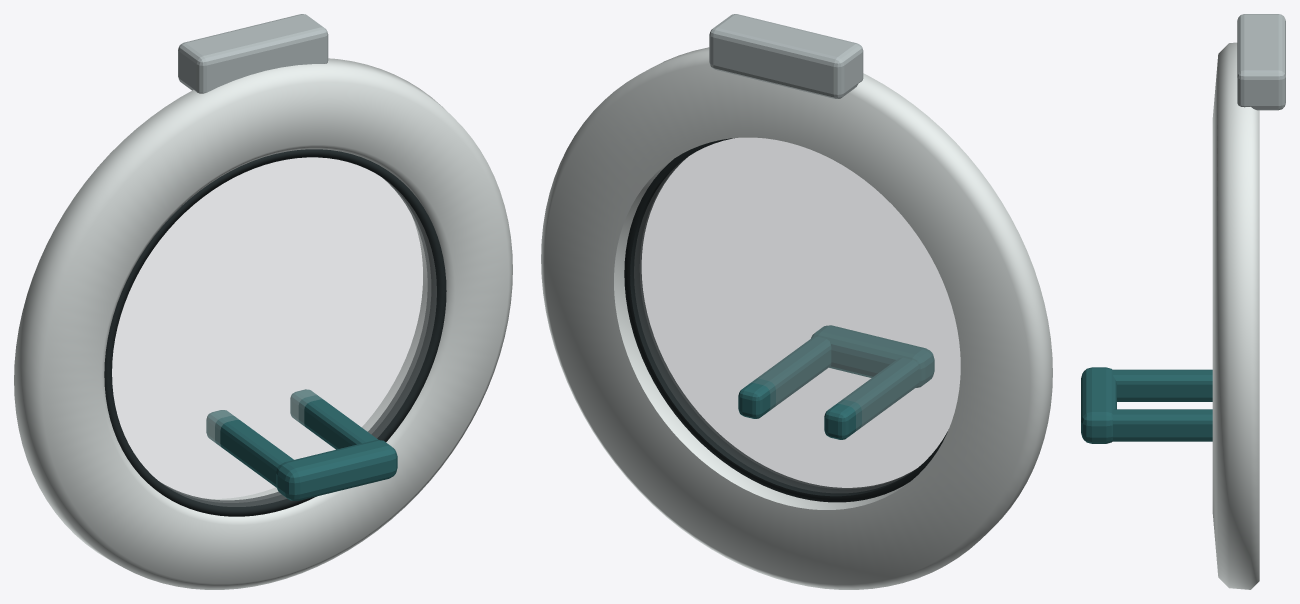
File: centrifuge_lid.glb
3 views of the same model, side by side, from view 1: azimuth 30°, elevation 25°; view 2: azimuth 150°, elevation 25°; view 3: azimuth 270°, elevation 25° (orthographic). The views are drawn at different scales.
Visible parts, largest first — view 1: Centrifuge lid enamel annulus, Centrifuge protective viewing window, Centrifuge viewing window gasket, Centrifuge lid hinge, Centrifuge lid grip, Centrifuge lid grip support.001, Centrifuge lid grip support; view 2: Centrifuge lid enamel annulus, Centrifuge protective viewing window, Centrifuge viewing window gasket, Centrifuge lid hinge, Centrifuge lid grip support.001, Centrifuge lid grip, Centrifuge lid grip support; view 3: Centrifuge lid enamel annulus, Centrifuge lid hinge, Centrifuge lid grip support, Centrifuge lid grip support.001, Centrifuge lid grip.
Boxes of the visible parts, <box> form: Centrifuge lid enamel annulus: <box>14,58,512,589</box>; Centrifuge protective viewing window: <box>112,157,436,506</box>; Centrifuge viewing window gasket: <box>104,149,446,516</box>; Centrifuge lid hinge: <box>178,14,328,93</box>; Centrifuge lid grip: <box>276,440,397,500</box>; Centrifuge lid grip support.001: <box>206,410,293,487</box>; Centrifuge lid grip support: <box>290,389,378,449</box>; Centrifuge lid enamel annulus: <box>541,47,1052,589</box>; Centrifuge protective viewing window: <box>634,138,960,492</box>; Centrifuge viewing window gasket: <box>624,138,948,502</box>; Centrifuge lid hinge: <box>709,14,863,98</box>; Centrifuge lid grip support.001: <box>824,357,919,439</box>; Centrifuge lid grip: <box>811,325,934,387</box>; Centrifuge lid grip support: <box>738,336,831,418</box>; Centrifuge lid enamel annulus: <box>1212,42,1259,589</box>; Centrifuge lid hinge: <box>1237,14,1285,110</box>; Centrifuge lid grip support: <box>1112,409,1212,441</box>; Centrifuge lid grip support.001: <box>1112,369,1212,401</box>; Centrifuge lid grip: <box>1081,367,1116,443</box>.
Bounding box in the file's own units: 0.304 × 0.319 × 0.1135.
